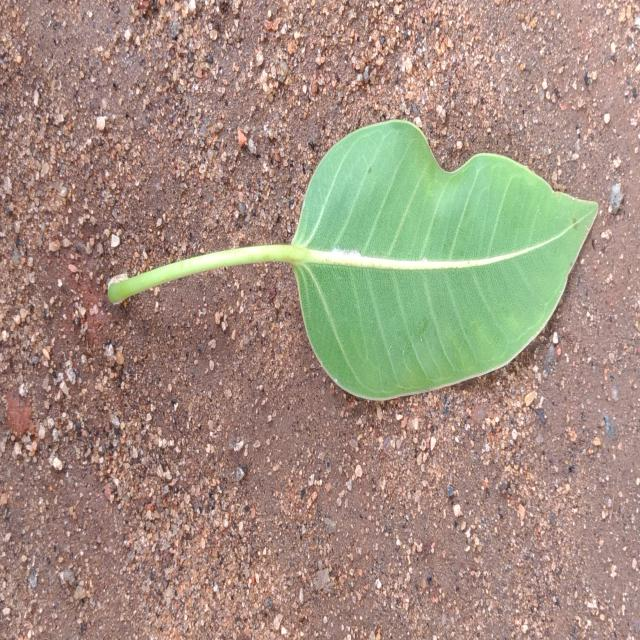camphor: (235, 120, 598, 400)
